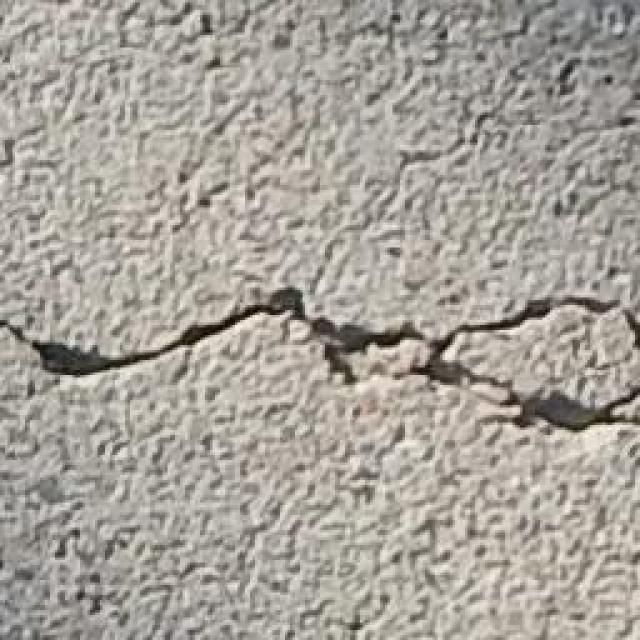concrete-crack: (4, 288, 640, 433)
